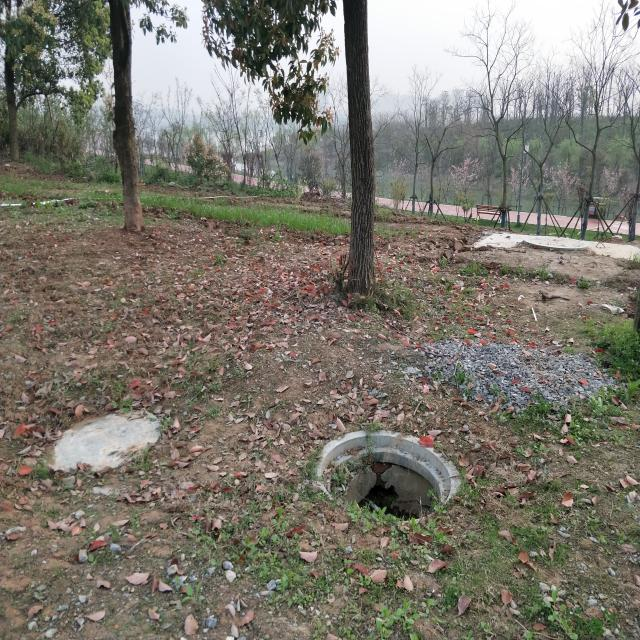Uncovered: (314, 428, 460, 524)
